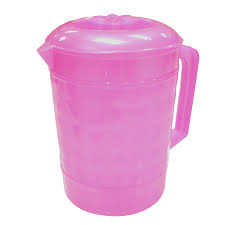plastic: (36, 13, 200, 216)
